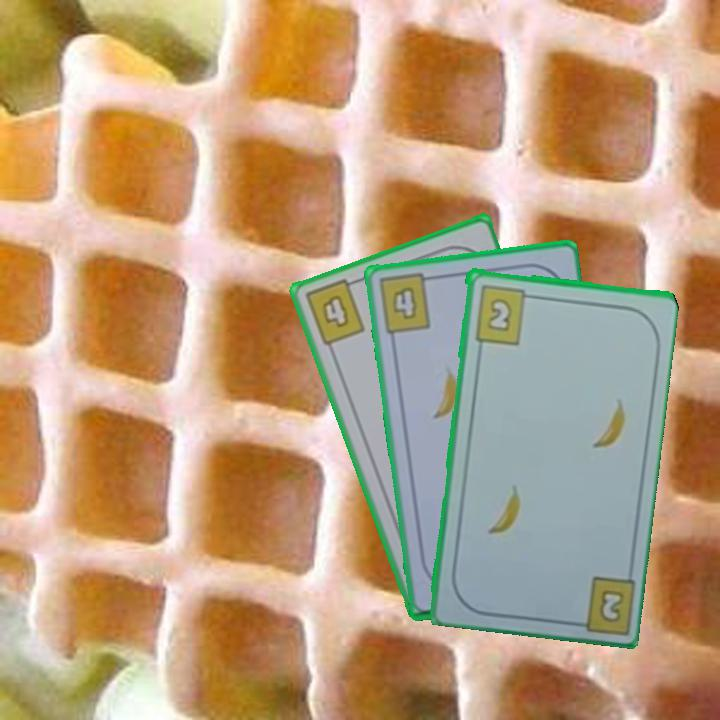2b: (470, 281, 537, 347), (597, 585, 627, 622)
4b: (300, 274, 368, 348), (374, 270, 438, 336)
